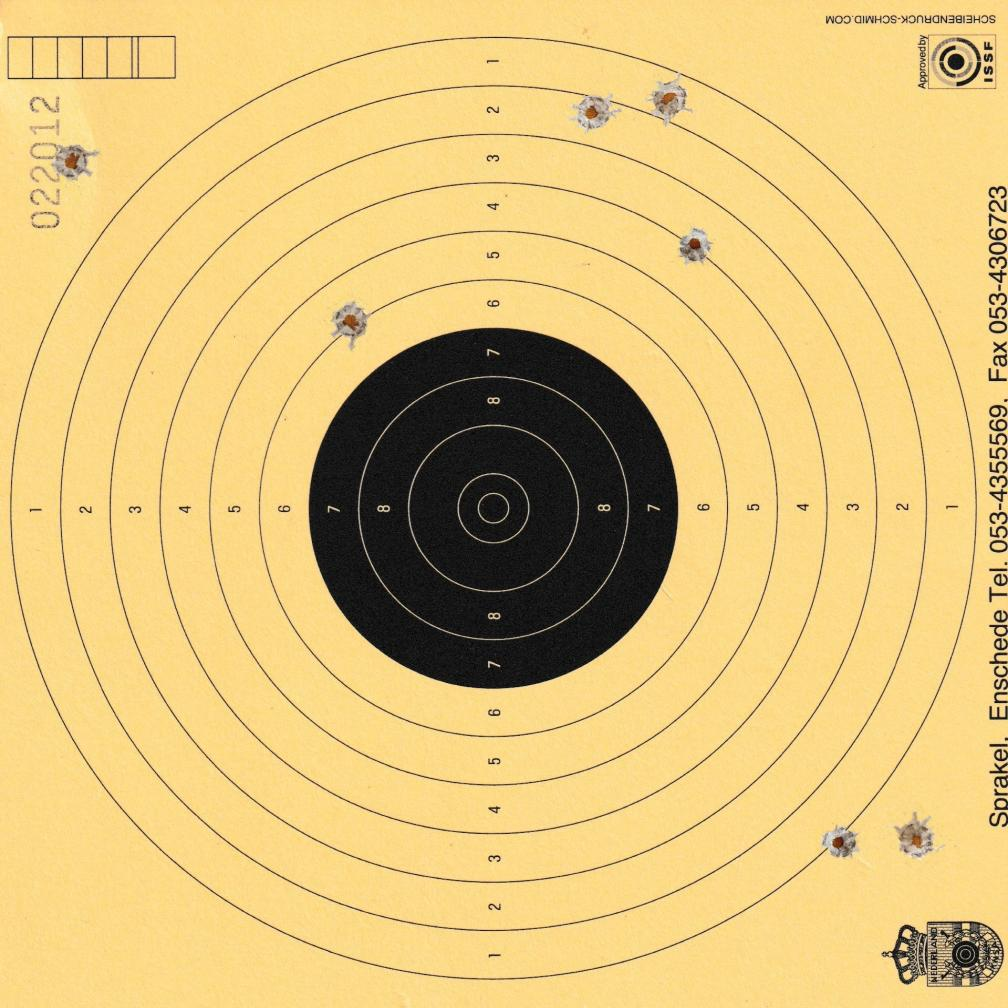0: (889, 813, 941, 860), (50, 145, 102, 183)
1: (820, 826, 859, 861)
2: (651, 74, 690, 123), (571, 94, 619, 132)
4: (677, 229, 715, 268)
6: (331, 301, 372, 351)
Target: (8, 34, 984, 983)
black_contour: (307, 327, 678, 690)
